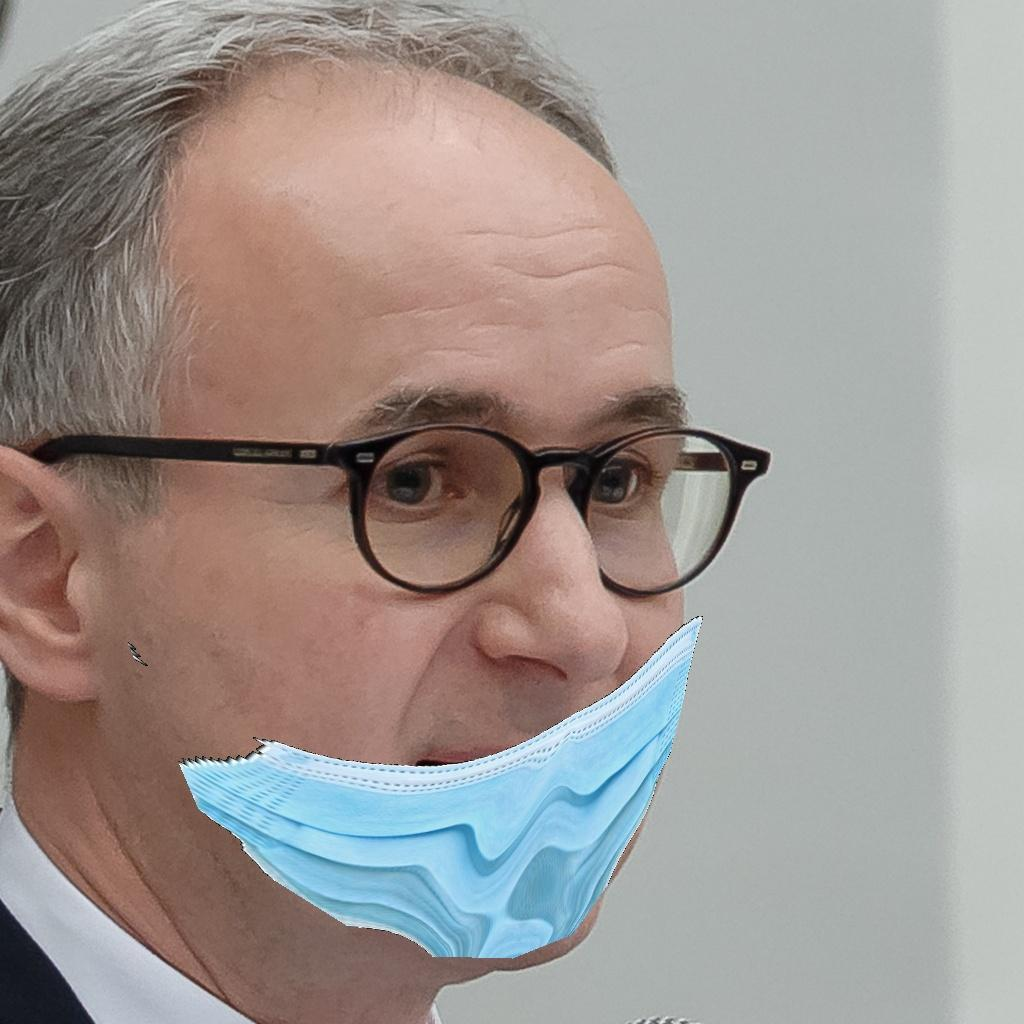Máscara Incorreta: (87, 165, 687, 946)
